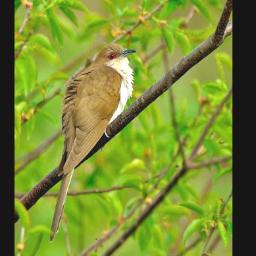Cuckoo: (47, 43, 138, 243)
